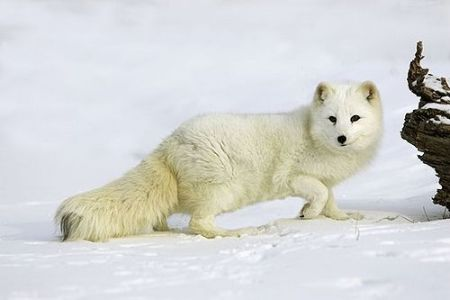fox: (60, 79, 392, 235)
